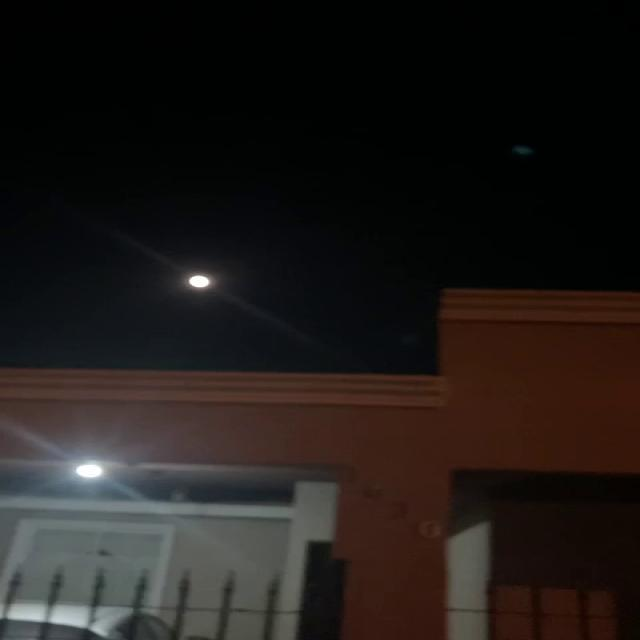moon: (177, 265, 229, 296)
